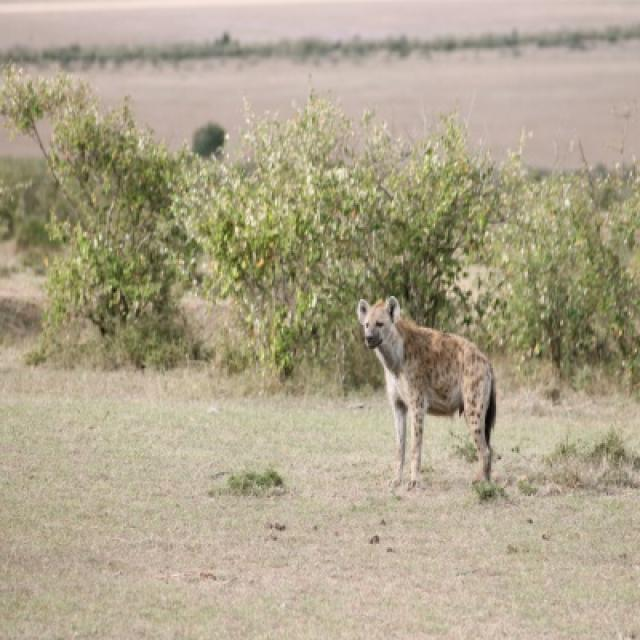hyena: (358, 296, 496, 485)
